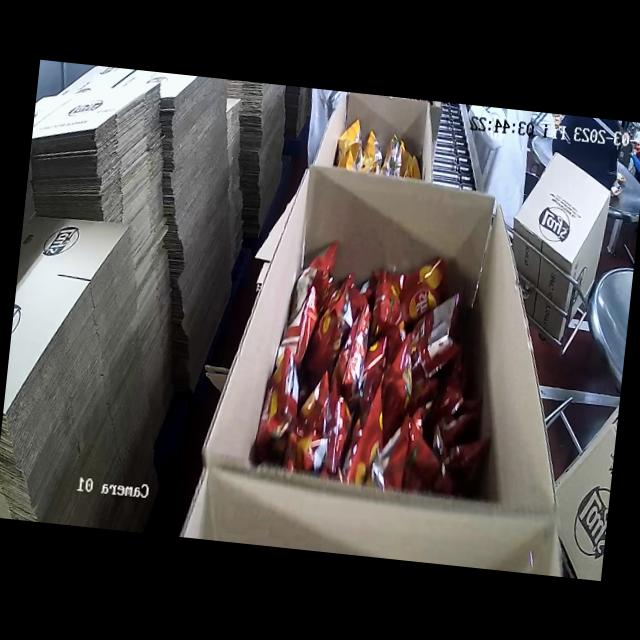cheese: (326, 120, 414, 184)
masala: (253, 230, 483, 508)
